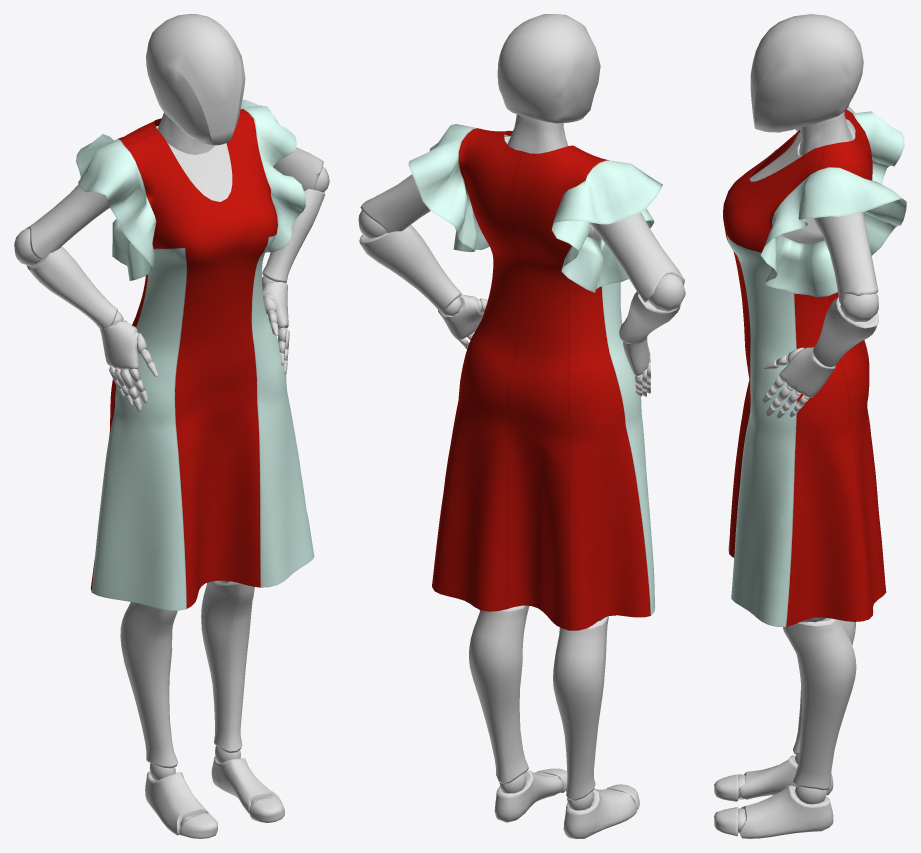
The model's file is inter_elem.glb.
3 views of the same model, side by side, from view 1: azimuth 30°, elevation 25°; view 2: azimuth 150°, elevation 25°; view 3: azimuth 270°, elevation 25° (orthographic). The views are drawn at different scales.
Visible parts, largest first — view 1: Pattern2D_15970.001, Dummy; view 2: Pattern2D_15970.001, Dummy; view 3: Pattern2D_15970.001, Dummy.
Part boxes in pixels (box(x1,y1,x2,y2)): Pattern2D_15970.001: box(76, 99, 314, 610); Dummy: box(14, 14, 329, 838); Pattern2D_15970.001: box(408, 124, 662, 630); Dummy: box(358, 14, 685, 838); Pattern2D_15970.001: box(723, 106, 906, 626); Dummy: box(714, 14, 878, 838).
Bounding box in the file's own units: 0.7262 × 1.75 × 0.3847.
2 materials, 1 textured.
